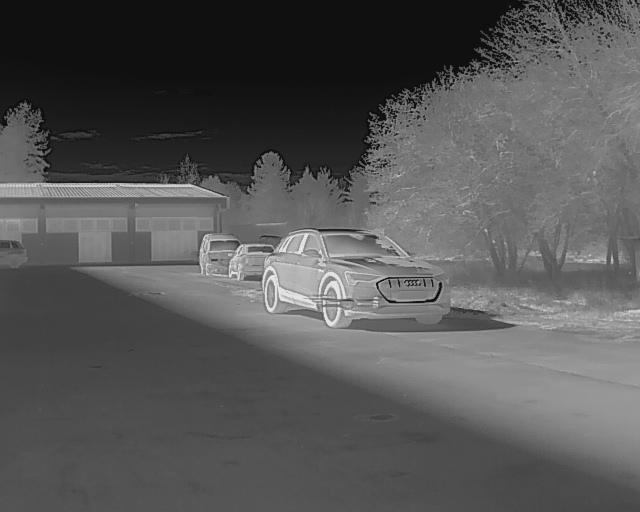drone: (301, 279, 397, 330)
